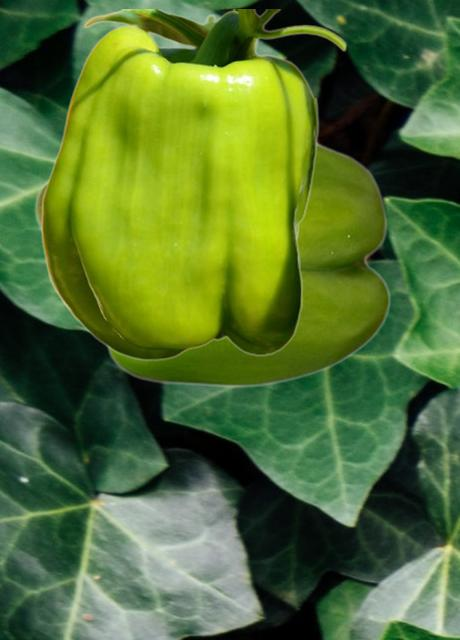bell_pepper: (40, 9, 346, 360), (34, 142, 390, 387)
